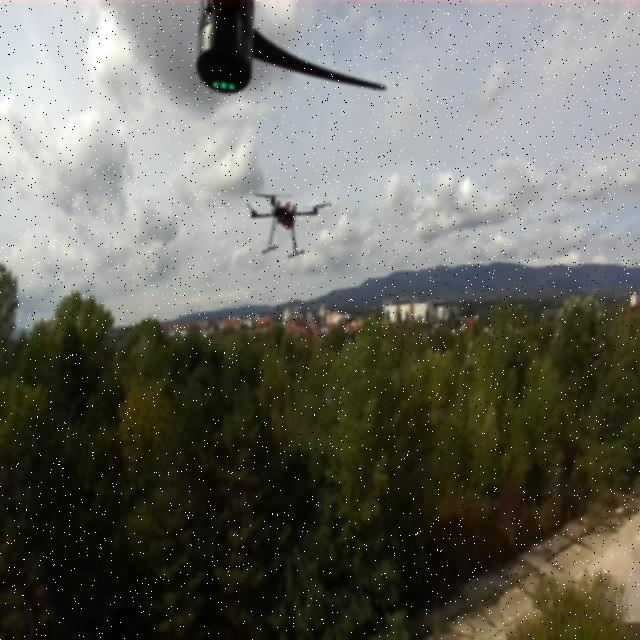UAV: (242, 192, 334, 261)
